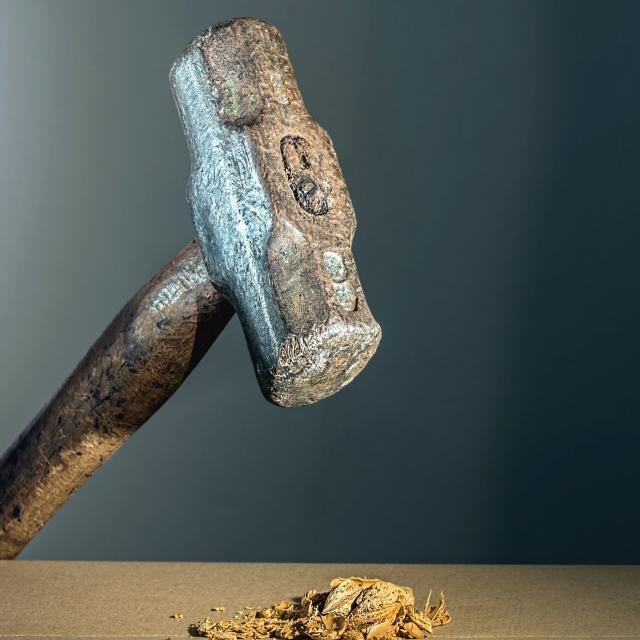hammer: (0, 12, 392, 565)
